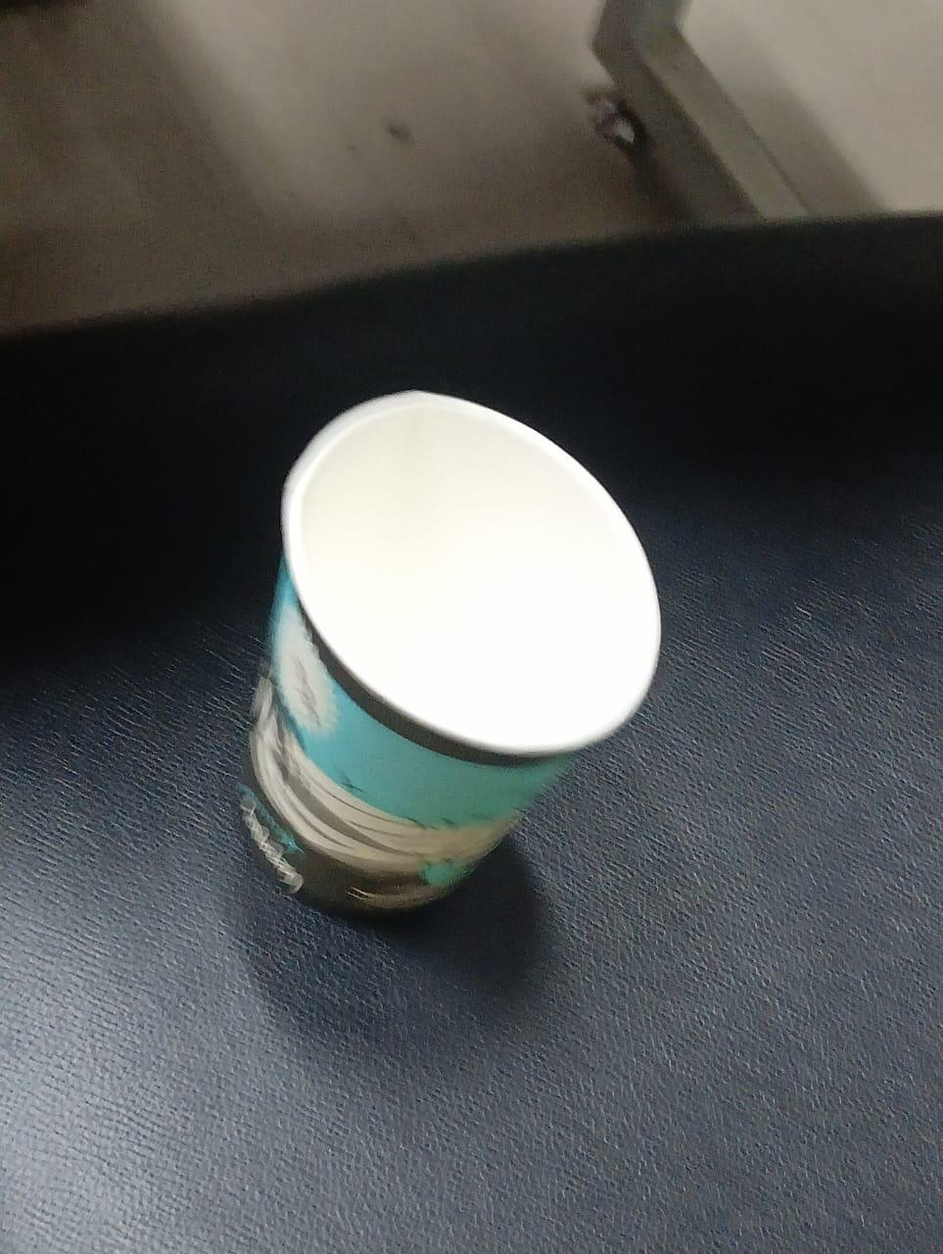cup: (240, 391, 660, 911), (283, 390, 660, 757)
